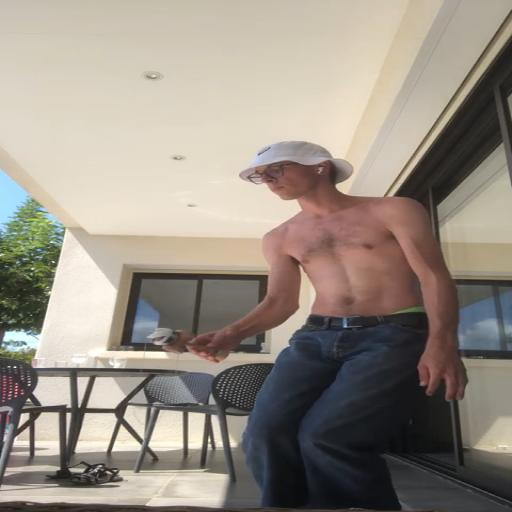kendama_ball: (147, 328, 177, 345)
